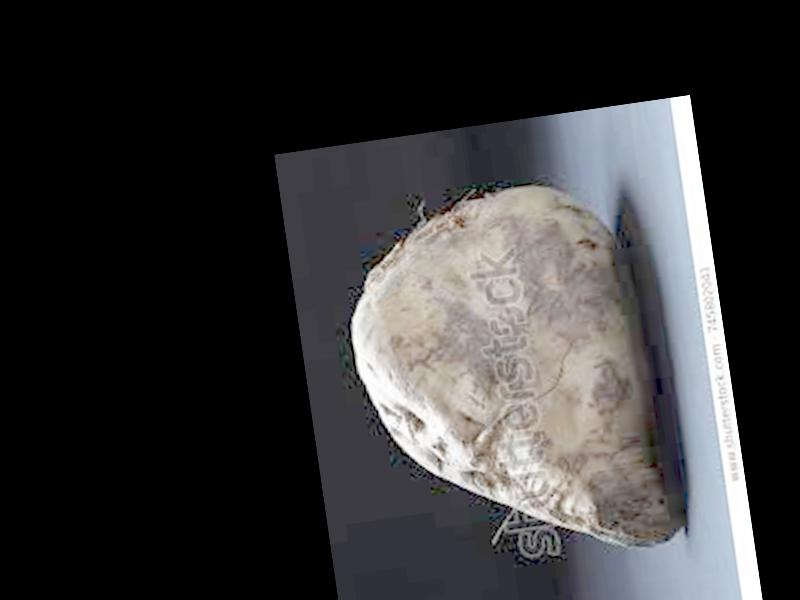Beet: (336, 166, 681, 578)
